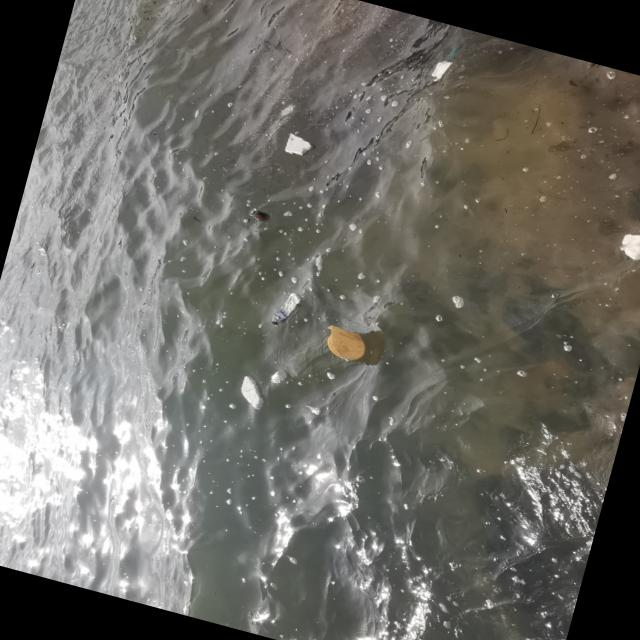can: (248, 208, 272, 224)
foam: (234, 375, 270, 411), (282, 132, 316, 160), (617, 229, 640, 262), (430, 57, 454, 85)
plastic bottle: (270, 290, 304, 330), (271, 368, 289, 385)
